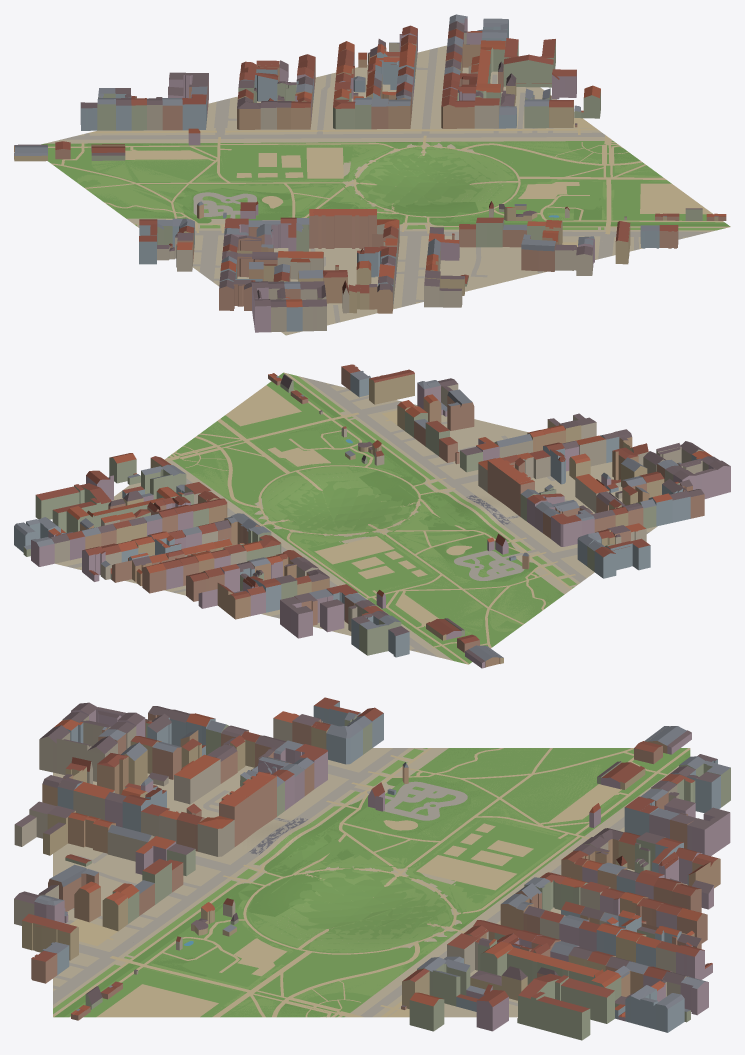
Rendered from goerli.glb.
3 renders of one model, top to bottom at view 1: azimuth 30°, elevation 25°; view 2: azimuth 150°, elevation 25°; view 3: azimuth 270°, elevation 25°, orthographic. The views are drawn at different scales.
Visible parts, largest first — view 1: buildings, layer_green, ground, layer_path, layer_curb; view 2: buildings, layer_green, layer_path, ground, layer_curb; view 3: buildings, layer_green, layer_path, ground, layer_curb.
Boxes of the visible parts, <box> form: buildings: <box>14,14,726,332</box>; layer_green: <box>41,141,729,334</box>; ground: <box>45,45,726,335</box>; layer_path: <box>48,118,730,247</box>; layer_curb: <box>60,47,709,323</box>; buildings: <box>14,364,730,668</box>; layer_green: <box>168,373,576,663</box>; layer_path: <box>164,372,575,664</box>; ground: <box>30,373,657,660</box>; layer_curb: <box>66,377,649,656</box>; buildings: <box>14,697,730,1040</box>; layer_green: <box>53,748,690,1017</box>; layer_path: <box>53,748,690,1017</box>; ground: <box>53,748,687,1017</box>; layer_curb: <box>53,748,624,1017</box>.
Bounding box in the file's own units: 515 × 36.05 × 495.
